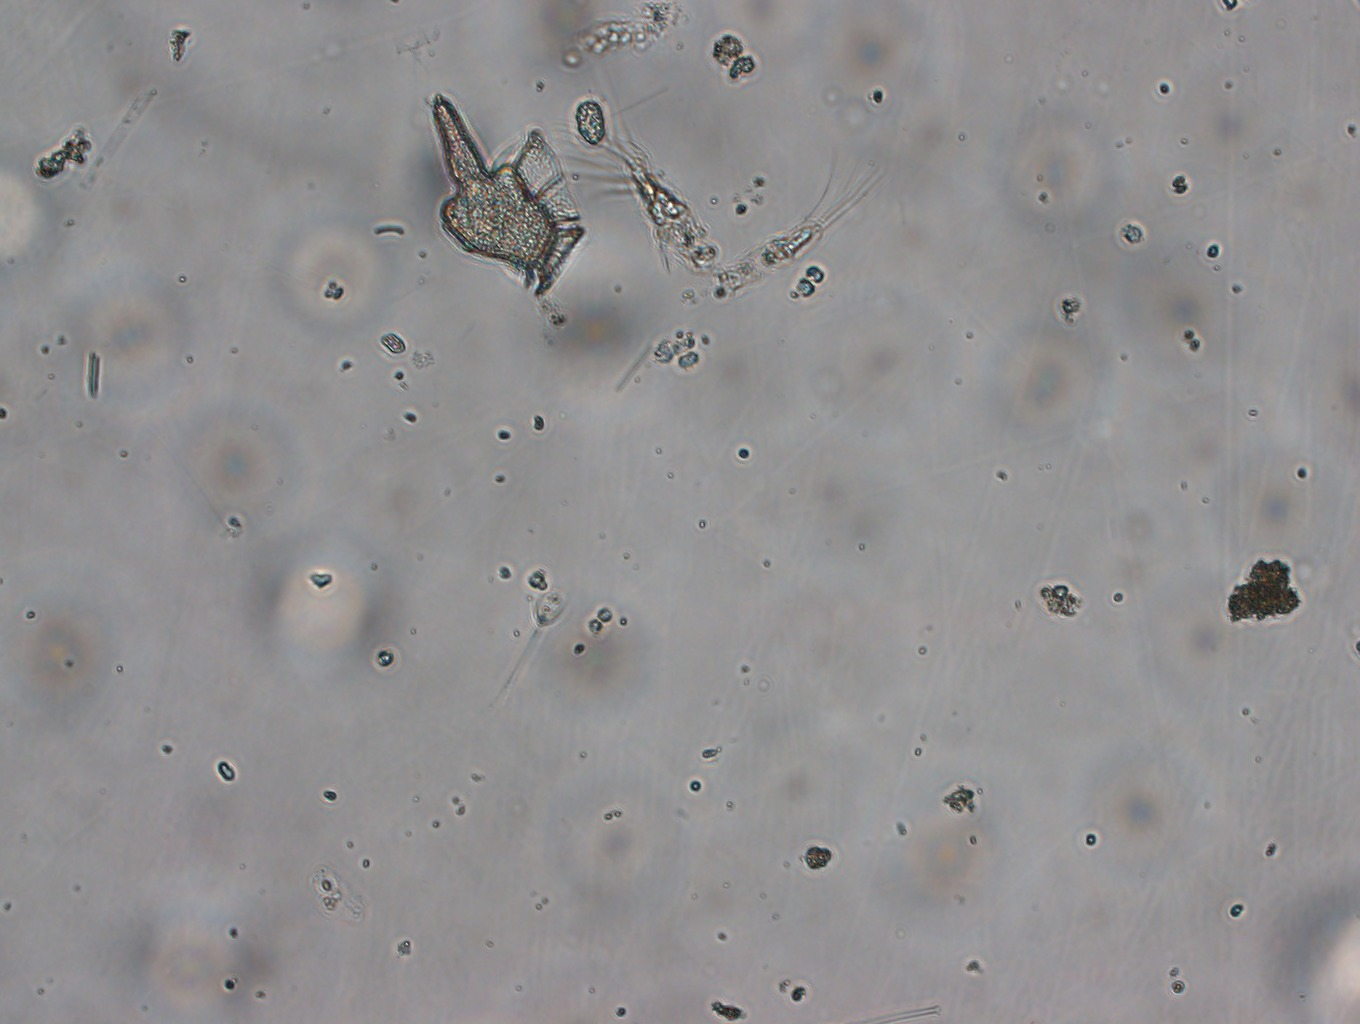dinophysis caudata: (416, 86, 610, 299)
